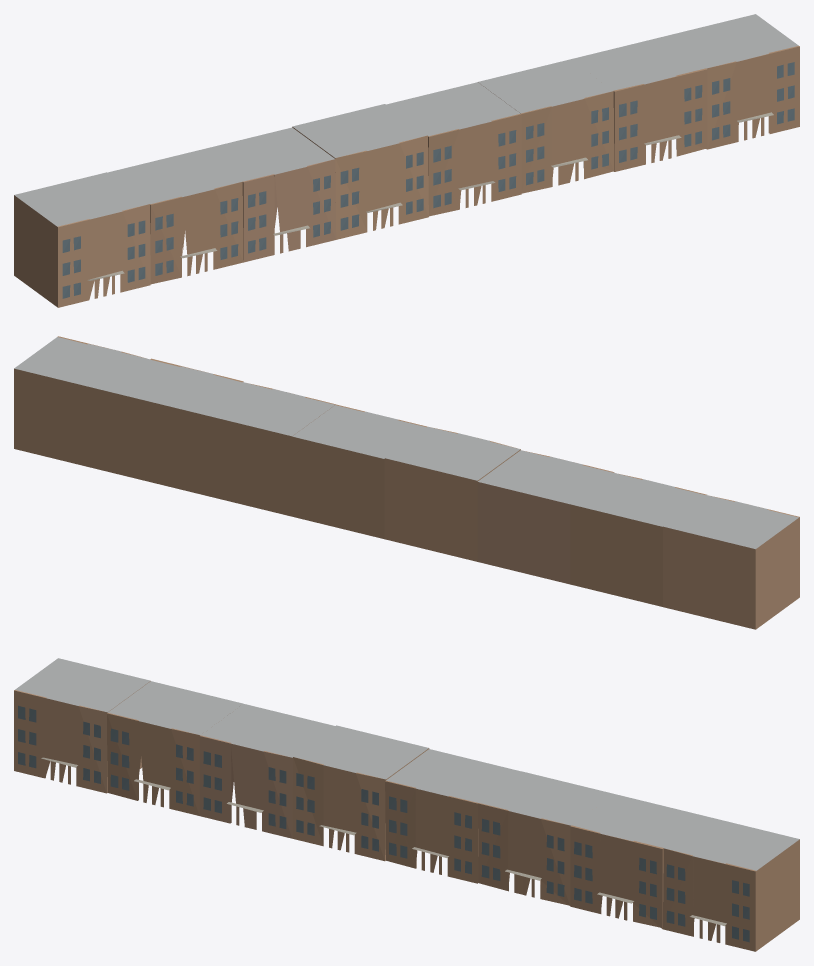
The model's file is chunk-face-callenburg-3-63.lod2.glb.
3 renders of one model, top to bottom at view 1: azimuth 30°, elevation 25°; view 2: azimuth 150°, elevation 25°; view 3: azimuth 330°, elevation 25°, orthographic.
Parts seen in each view (by area): view 1: lod2; view 2: lod2; view 3: lod2.
Part boxes in pixels (bbox=[...]): lod2: bbox=[14, 14, 799, 307]; lod2: bbox=[14, 336, 799, 629]; lod2: bbox=[14, 658, 799, 951].
Bounding box in the file's own units: 103 × 10.74 × 11.27.
